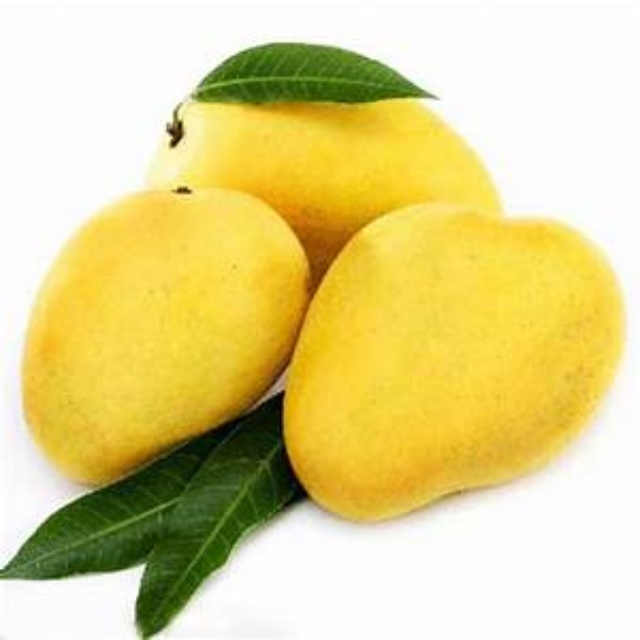mango: (285, 199, 634, 522), (25, 188, 306, 488), (151, 60, 500, 264)
